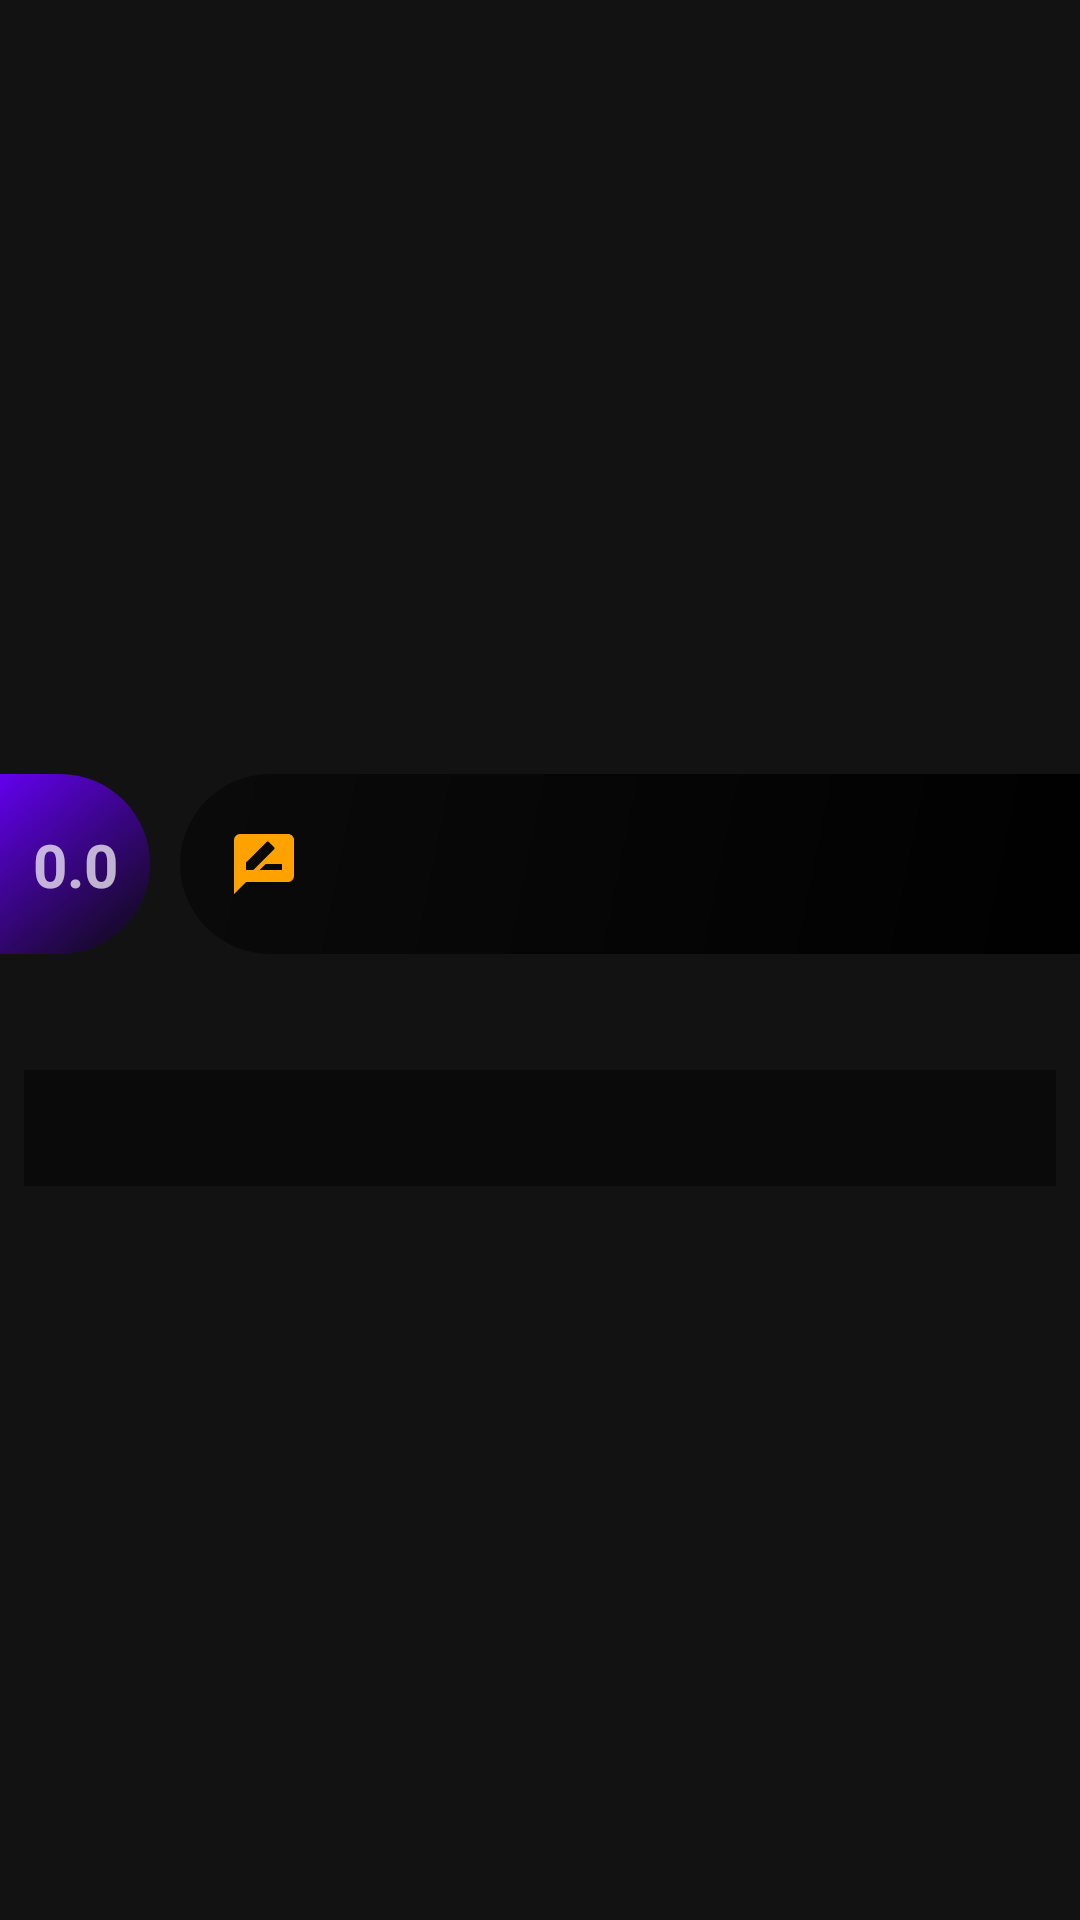

Point at icon controls on the screen. Image size 1080x1920, points as (x,y).
review: (264,864)
